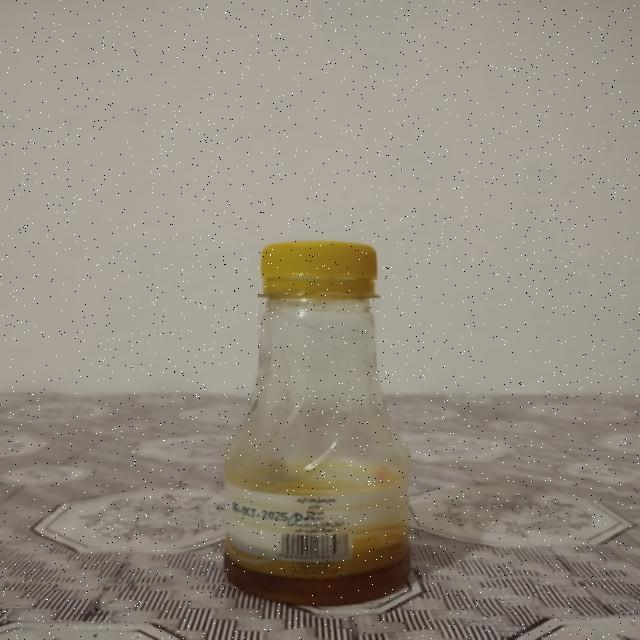bottle: (207, 225, 414, 615)
cap: (247, 230, 387, 308)
label: (200, 468, 423, 568)
